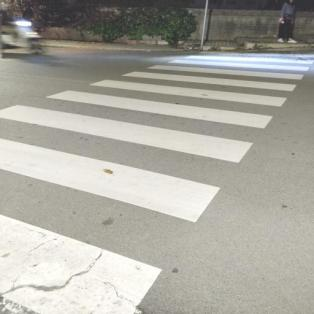Paso de Cebra: (1, 102, 256, 227), (136, 58, 312, 83)
